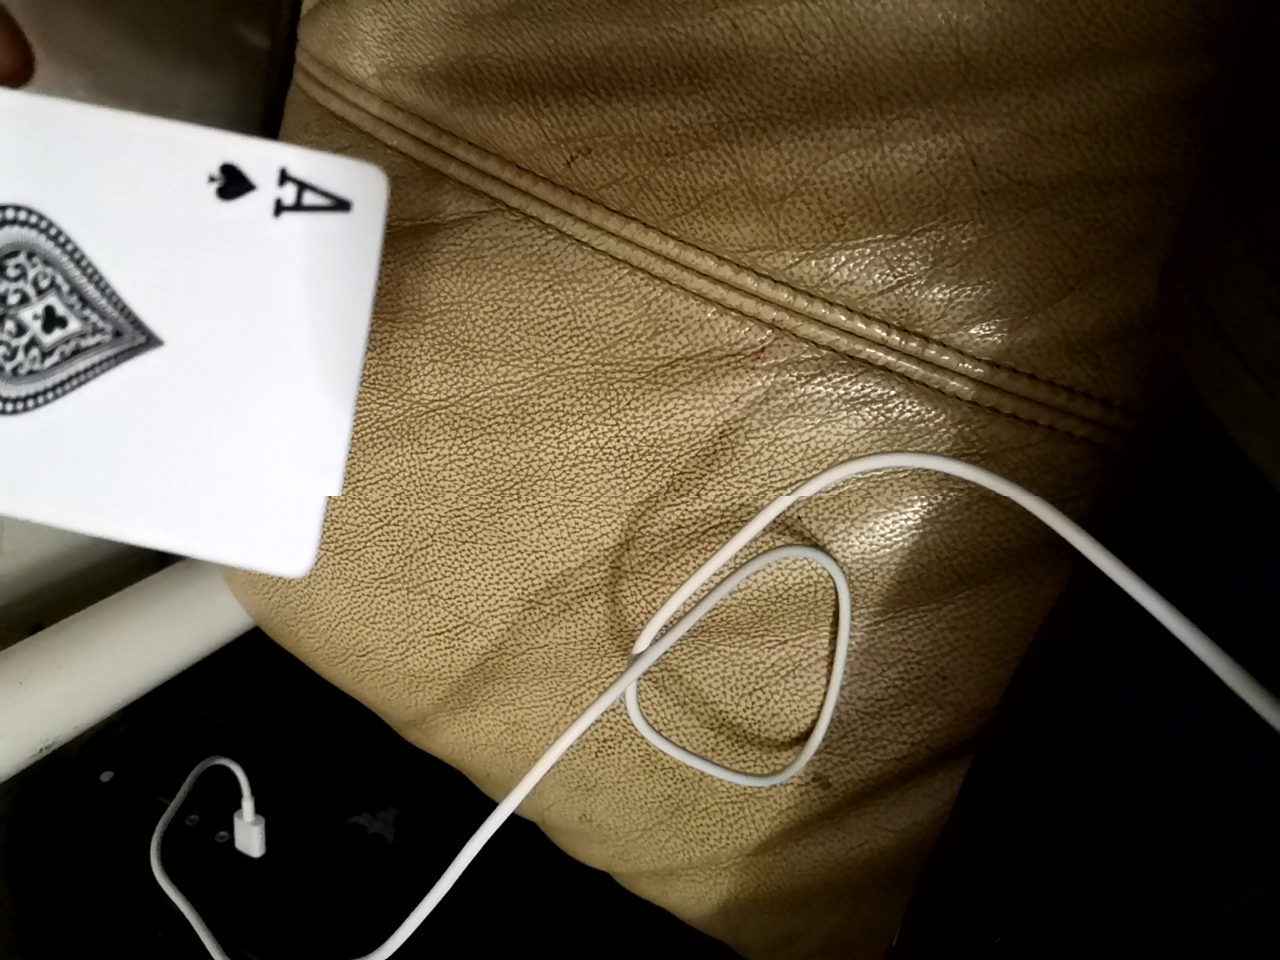ht a: (0, 48, 389, 587)
